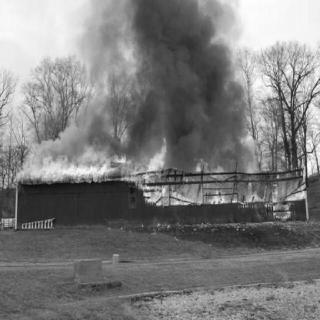Fire: (14, 136, 306, 222)
Smoke: (89, 1, 247, 155)
